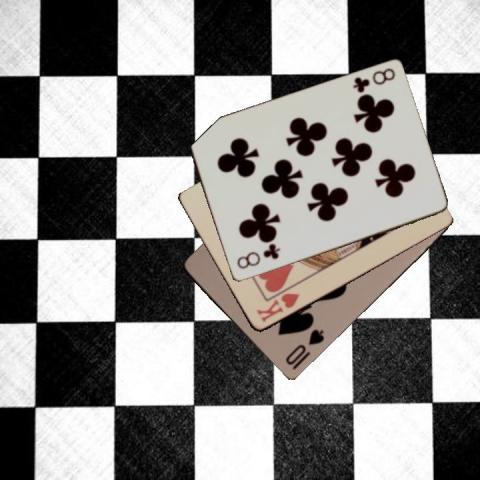10s: (283, 326, 326, 367)
8c: (349, 65, 397, 95), (234, 242, 282, 271)
Kh: (253, 290, 302, 324)
